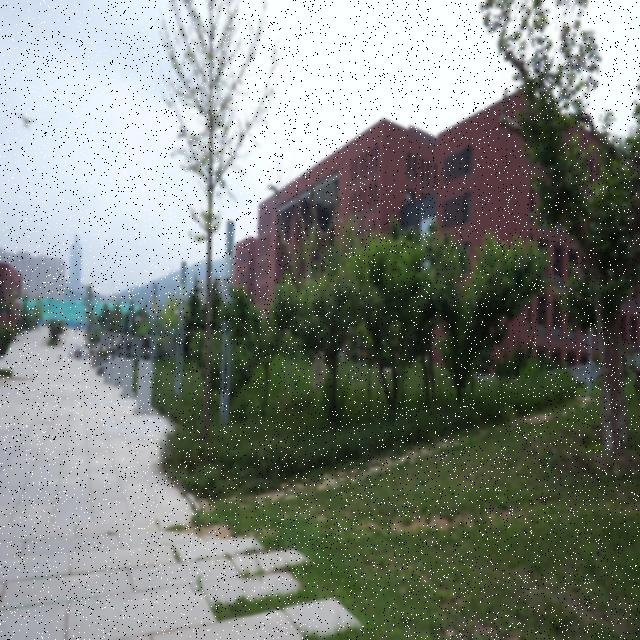UAV: (15, 114, 38, 130)
